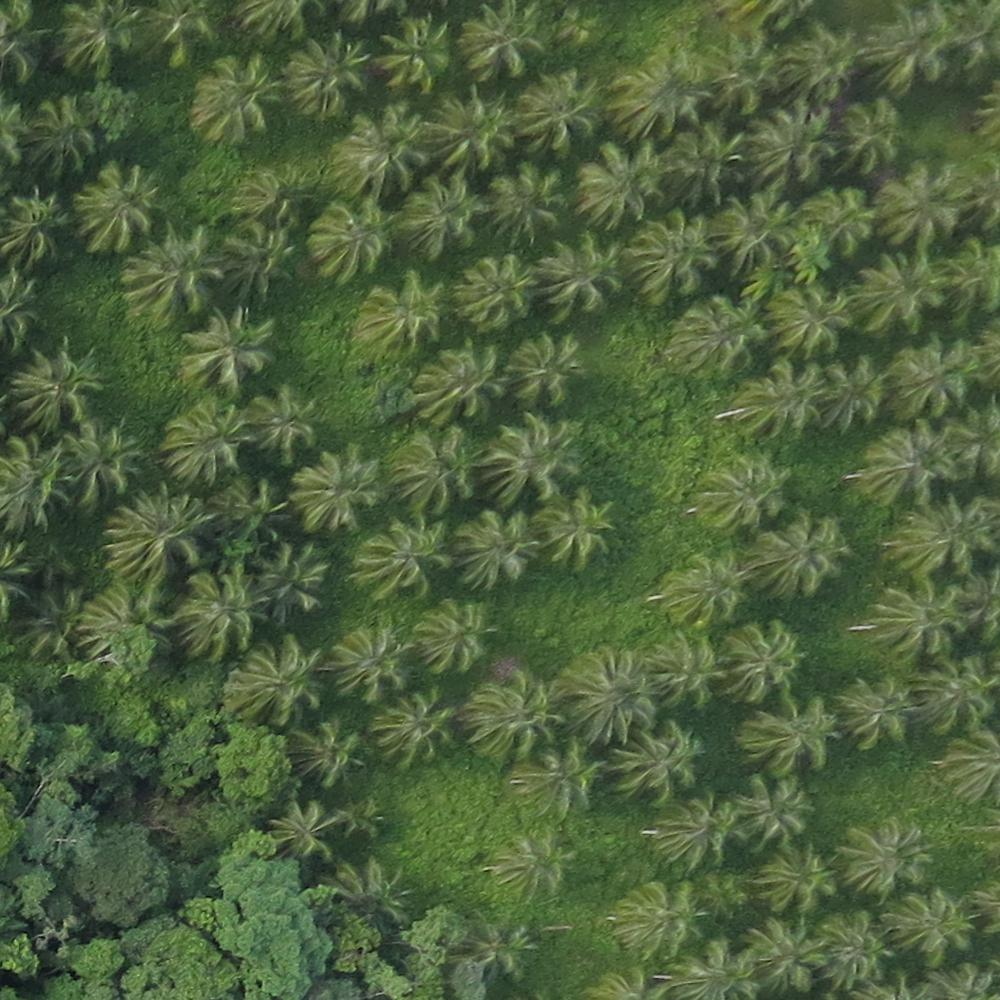Palm: (481, 412, 581, 500), (467, 669, 558, 764), (125, 228, 216, 318), (742, 690, 836, 777), (103, 490, 203, 571), (231, 641, 324, 728), (181, 308, 278, 391), (760, 514, 848, 605), (563, 644, 650, 736), (174, 565, 264, 652), (575, 136, 662, 226), (389, 430, 481, 515), (429, 85, 519, 171), (842, 818, 933, 902), (394, 173, 485, 257), (187, 57, 278, 141), (338, 108, 430, 191), (305, 199, 394, 284), (358, 519, 449, 602), (615, 51, 707, 133), (289, 449, 383, 529), (653, 552, 747, 631), (745, 106, 829, 192), (73, 163, 157, 249), (862, 9, 948, 93), (613, 880, 704, 959), (696, 454, 788, 532), (513, 73, 606, 150), (13, 344, 99, 427), (418, 343, 502, 427), (372, 691, 462, 769), (857, 251, 941, 334), (719, 618, 805, 699), (875, 169, 969, 243), (863, 431, 950, 509), (486, 826, 575, 902), (673, 295, 762, 371), (891, 890, 981, 965), (810, 909, 895, 988), (461, 1, 547, 79), (877, 581, 964, 658), (286, 34, 368, 115), (516, 740, 600, 819), (451, 507, 536, 585), (327, 621, 413, 698), (161, 402, 250, 476), (629, 216, 710, 297), (536, 238, 619, 317), (896, 501, 987, 573), (358, 280, 445, 355), (887, 342, 971, 419), (616, 727, 702, 802), (653, 795, 734, 874), (220, 218, 301, 297), (746, 357, 822, 441), (703, 33, 783, 112), (744, 914, 822, 995), (785, 23, 866, 100), (417, 594, 500, 669), (457, 254, 541, 328), (768, 280, 854, 352), (920, 655, 994, 738), (531, 496, 618, 566), (22, 96, 100, 174), (662, 126, 742, 202), (53, 1, 134, 76), (754, 845, 838, 916), (245, 384, 327, 456), (490, 163, 566, 240), (714, 193, 787, 272), (832, 99, 906, 176), (737, 776, 816, 848), (648, 634, 719, 712), (65, 425, 141, 497), (201, 478, 289, 540), (841, 677, 915, 749), (255, 543, 330, 614), (505, 333, 582, 402), (377, 16, 449, 85), (821, 356, 884, 429)
